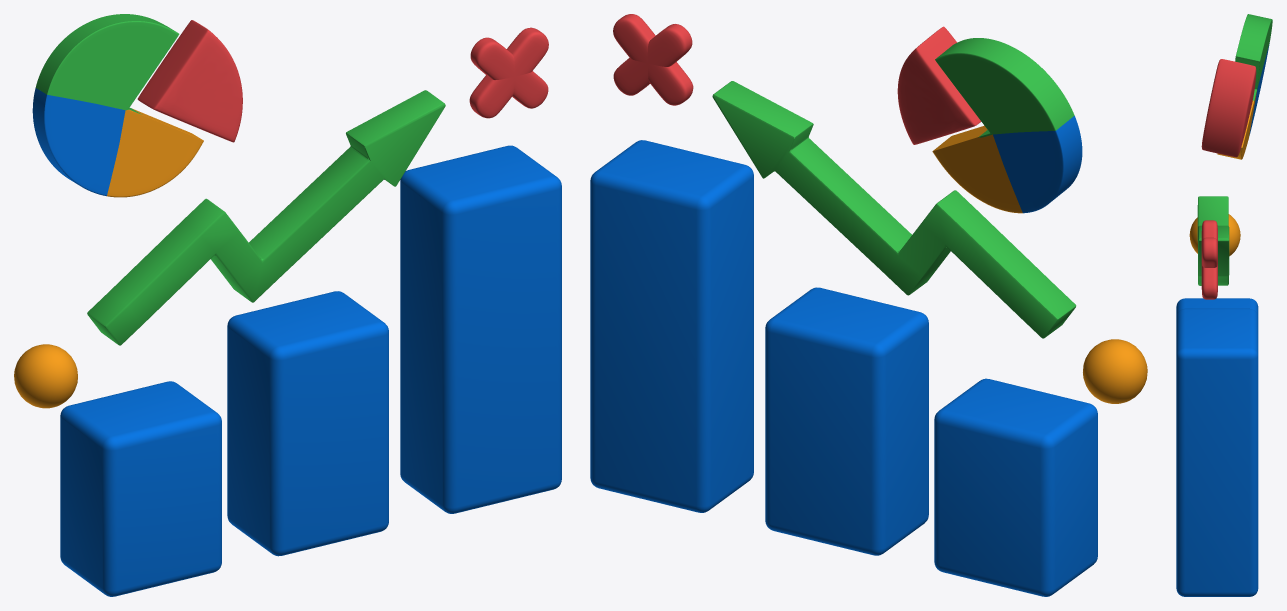
File: sales-strategy-3d-animated-icon-1004459862515.glb
The picture shows the model from 3 angles, left to right: view 1: azimuth 30°, elevation 25°; view 2: azimuth 150°, elevation 25°; view 3: azimuth 270°, elevation 25°; orthographic projection. The views are drawn at different scales.
Visible parts, largest first — view 1: Plane.002, Plane.001, Plane, Cube.003, Circle, Circle.001, Cube.013, Sphere; view 2: Plane.002, Plane.001, Plane, Cube.003, Circle, Circle.001, Cube.013, Sphere; view 3: Plane.002, Circle.001, Circle, Cube.003, Cube.013, Plane, Sphere.
Boxes of the visible parts, left/top/right/bottom form: Plane.002: left=400, top=145, right=561, bottom=513; Plane.001: left=227, top=291, right=388, bottom=556; Plane: left=60, top=381, right=221, bottom=596; Cube.003: left=87, top=90, right=445, bottom=345; Circle: left=32, top=14, right=203, bottom=197; Circle.001: left=137, top=20, right=242, bottom=142; Cube.013: left=469, top=27, right=548, bottom=118; Sphere: left=14, top=344, right=77, bottom=408; Plane.002: left=590, top=140, right=753, bottom=512; Plane.001: left=765, top=287, right=928, bottom=555; Plane: left=934, top=378, right=1097, bottom=596; Cube.003: left=712, top=81, right=1076, bottom=338; Circle: left=932, top=38, right=1082, bottom=213; Circle.001: left=897, top=26, right=981, bottom=144; Cube.013: left=613, top=14, right=693, bottom=105; Sphere: left=1083, top=339, right=1147, bottom=403; Plane.002: left=1176, top=308, right=1258, bottom=596; Circle.001: left=1201, top=59, right=1256, bottom=157; Circle: left=1217, top=14, right=1272, bottom=159; Cube.003: left=1197, top=196, right=1229, bottom=285; Cube.013: left=1201, top=220, right=1217, bottom=299; Plane: left=1176, top=298, right=1258, bottom=316; Sphere: left=1189, top=214, right=1240, bottom=256.
Size of the model in its own units: 3.67 by 3.57 by 0.735.
